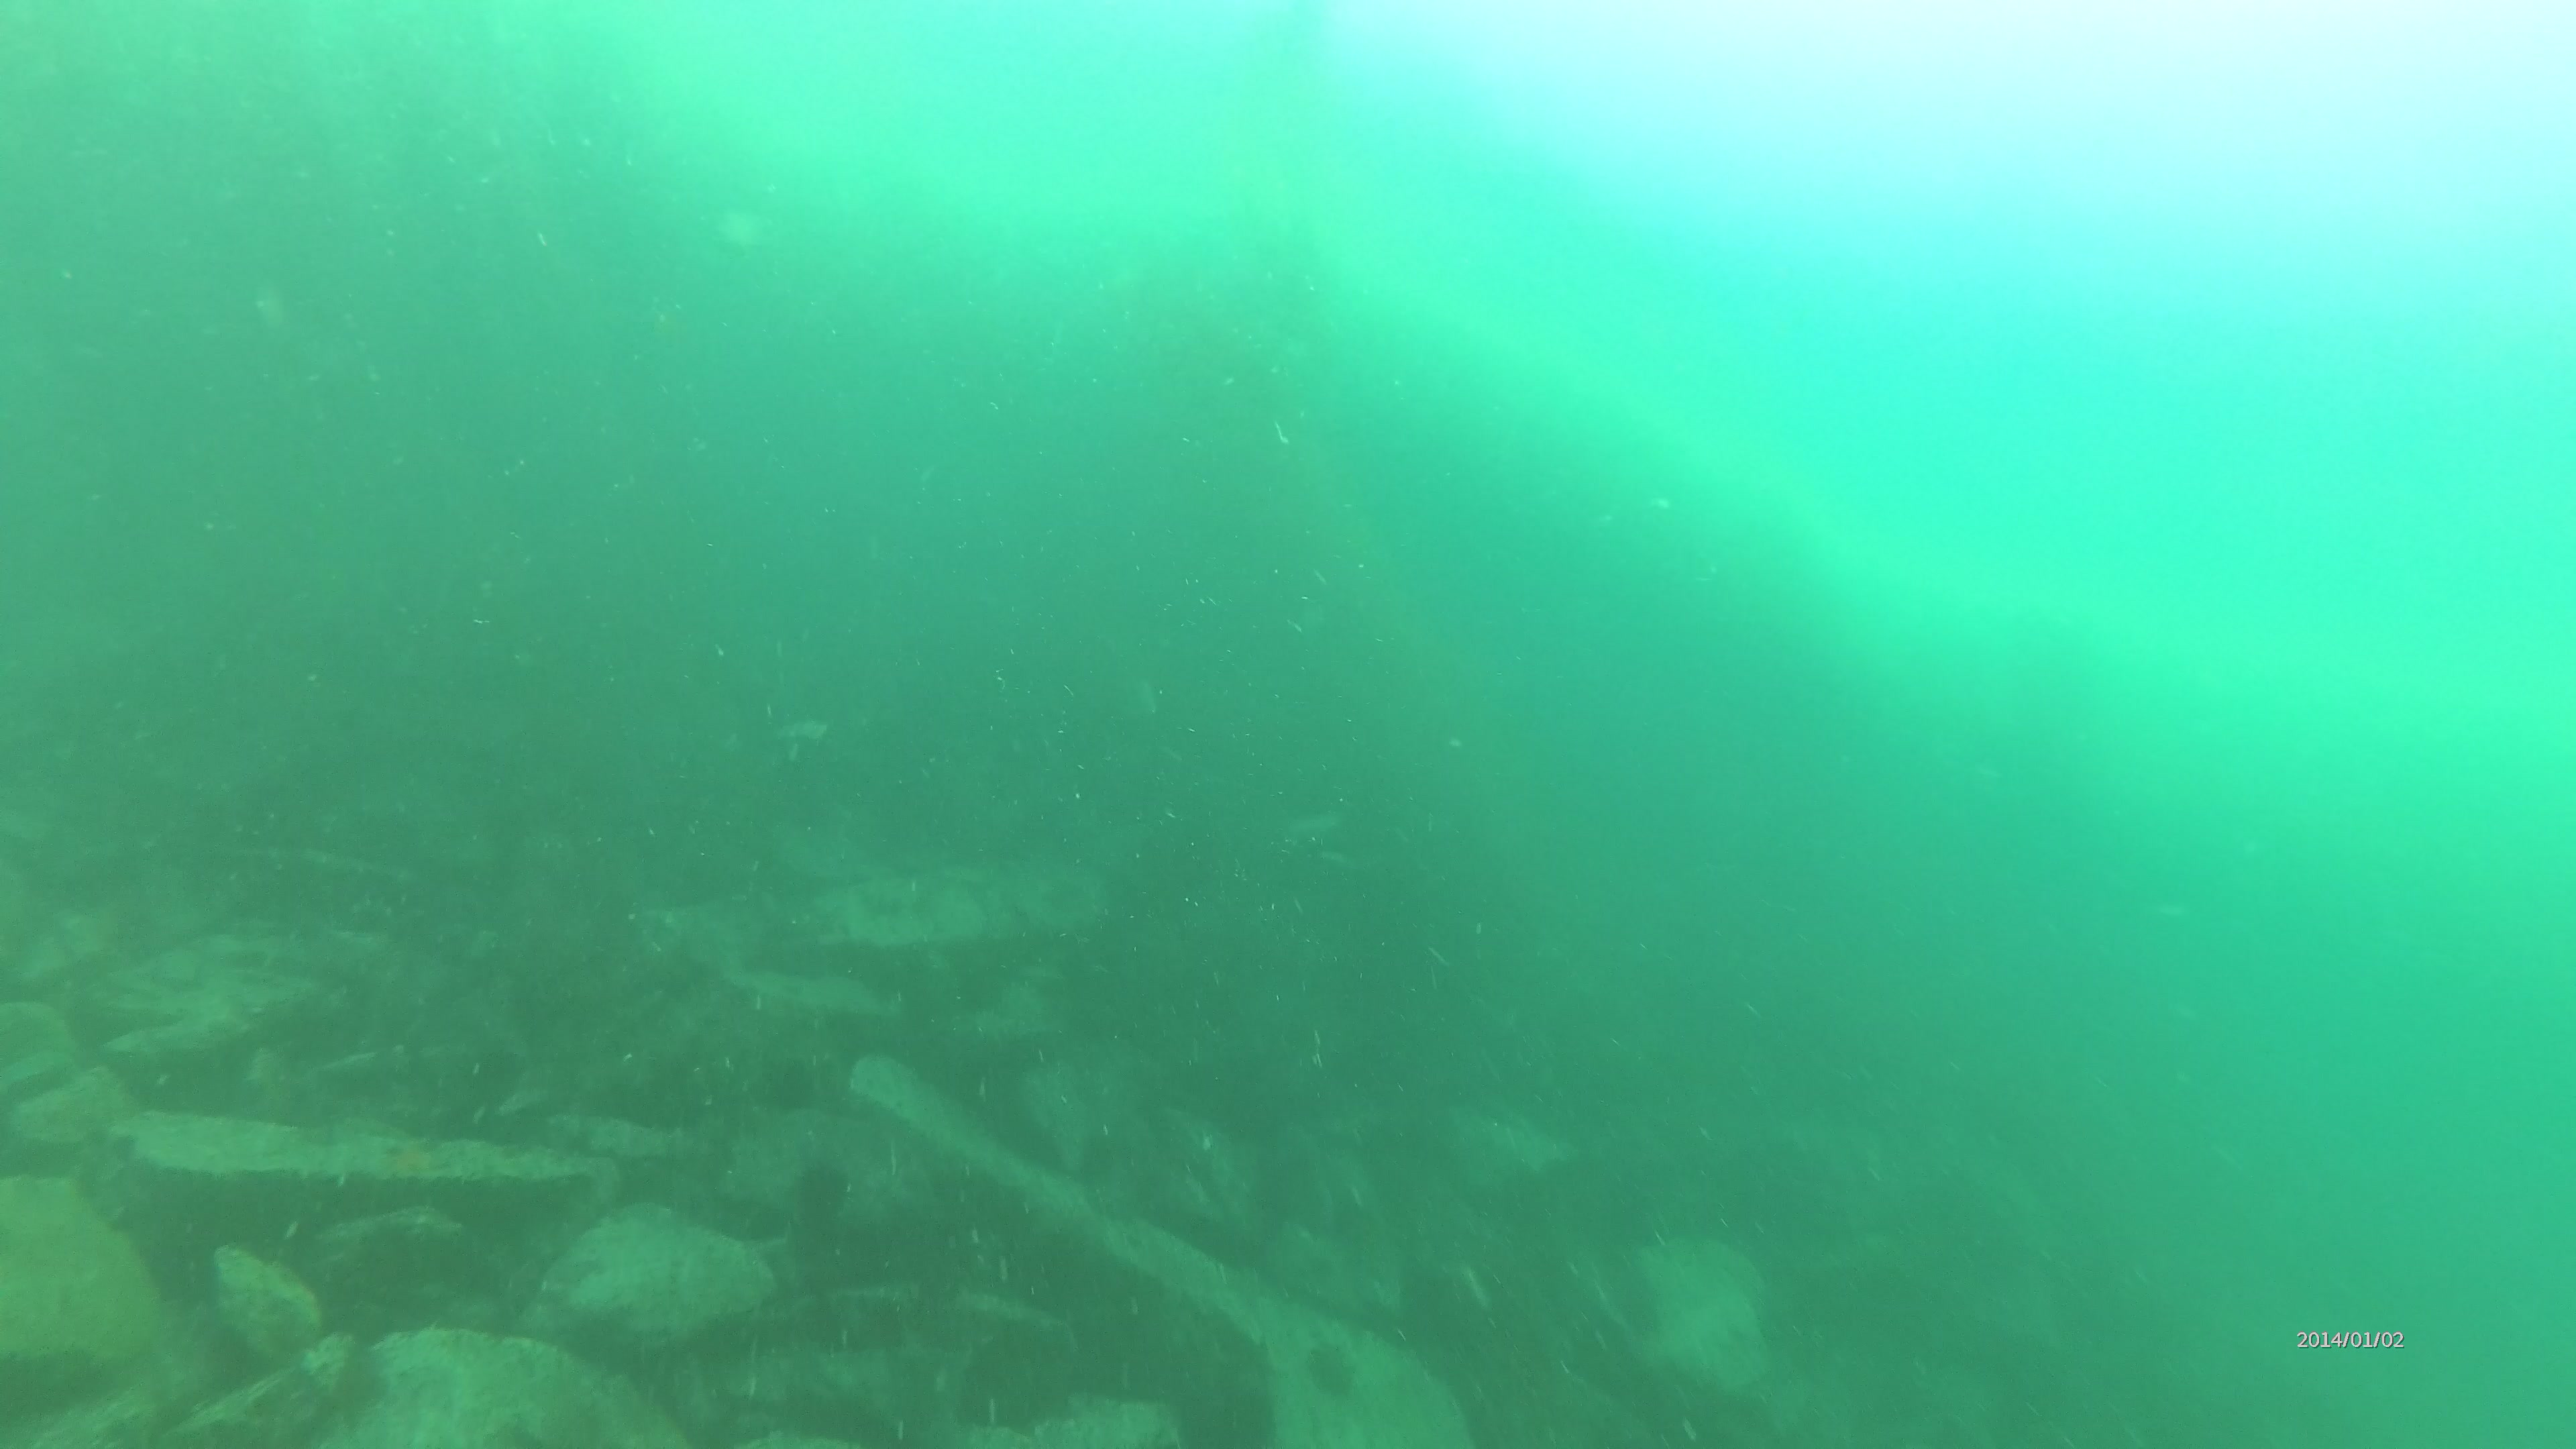echinus: (791, 1157, 862, 1223), (750, 1039, 814, 1108)
starfish: (380, 1132, 441, 1185)
